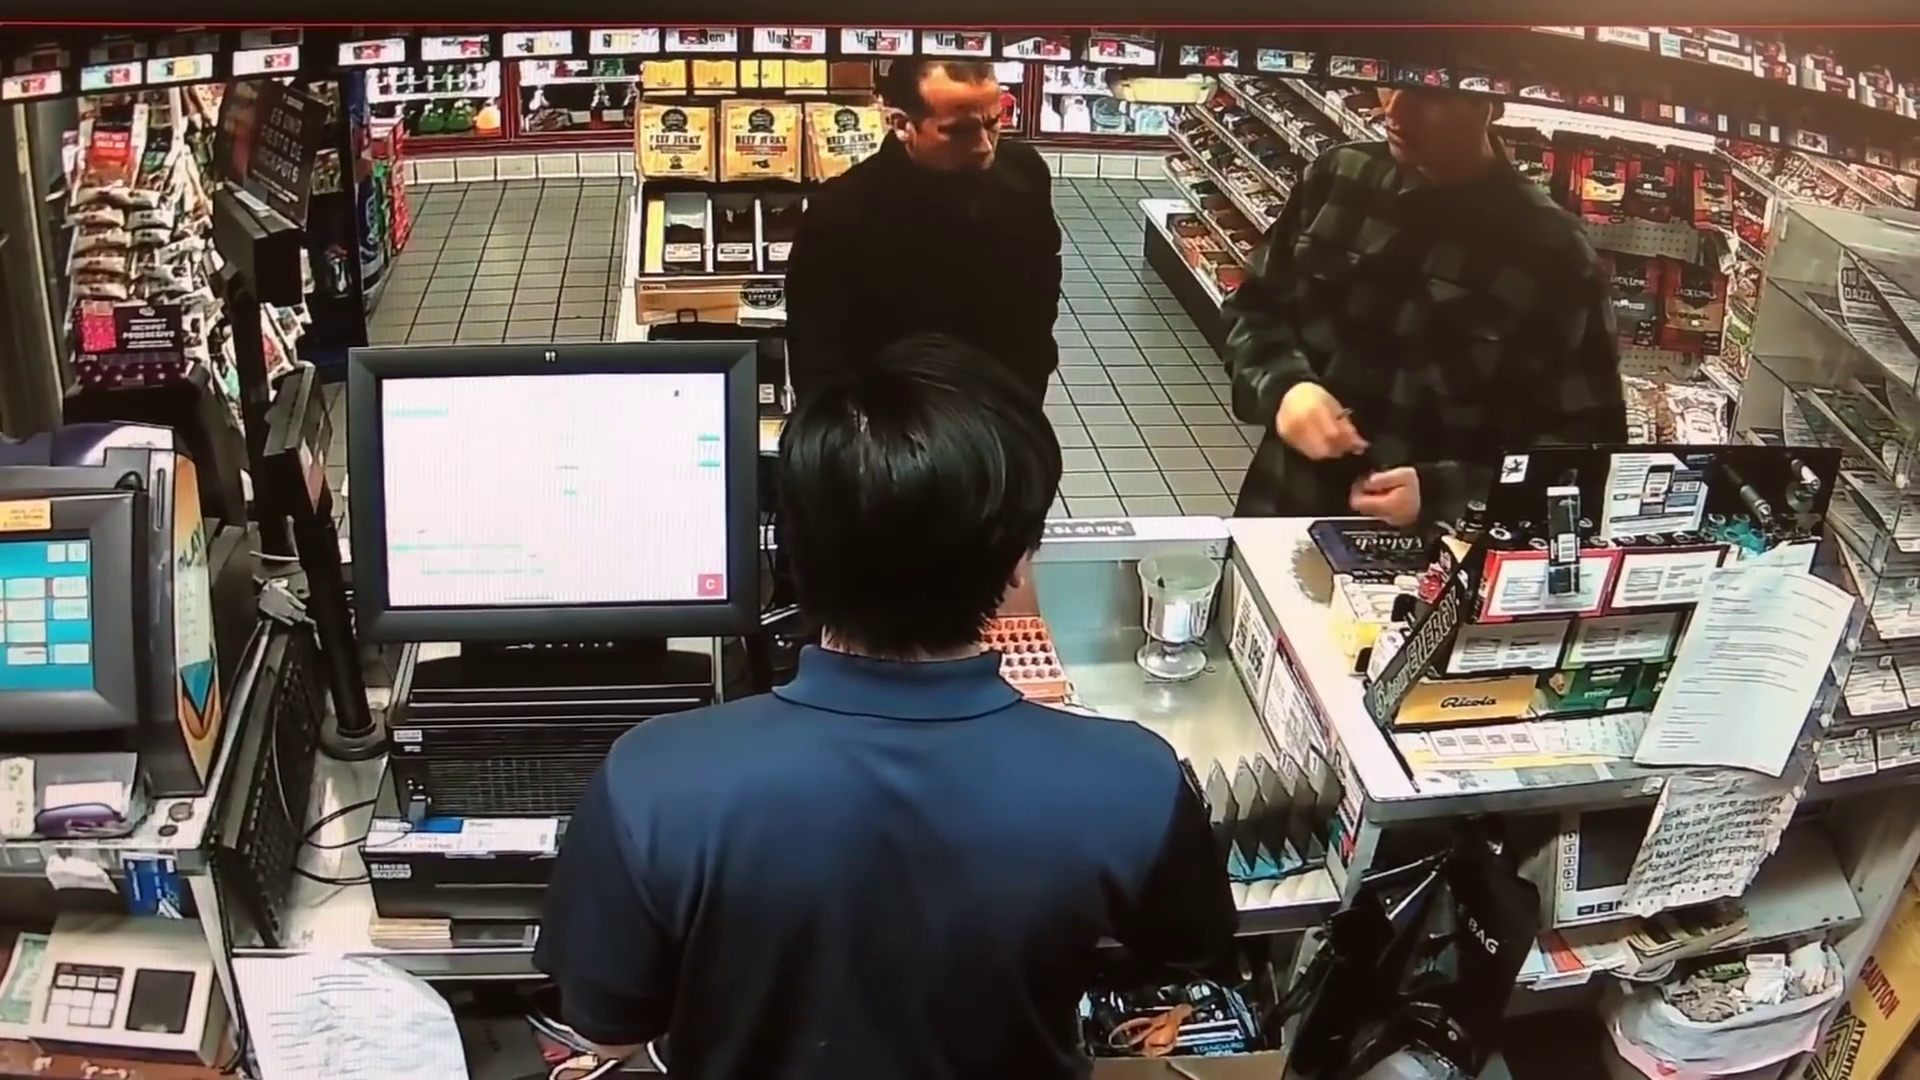face: (1373, 81, 1496, 179), (921, 78, 1006, 175)
